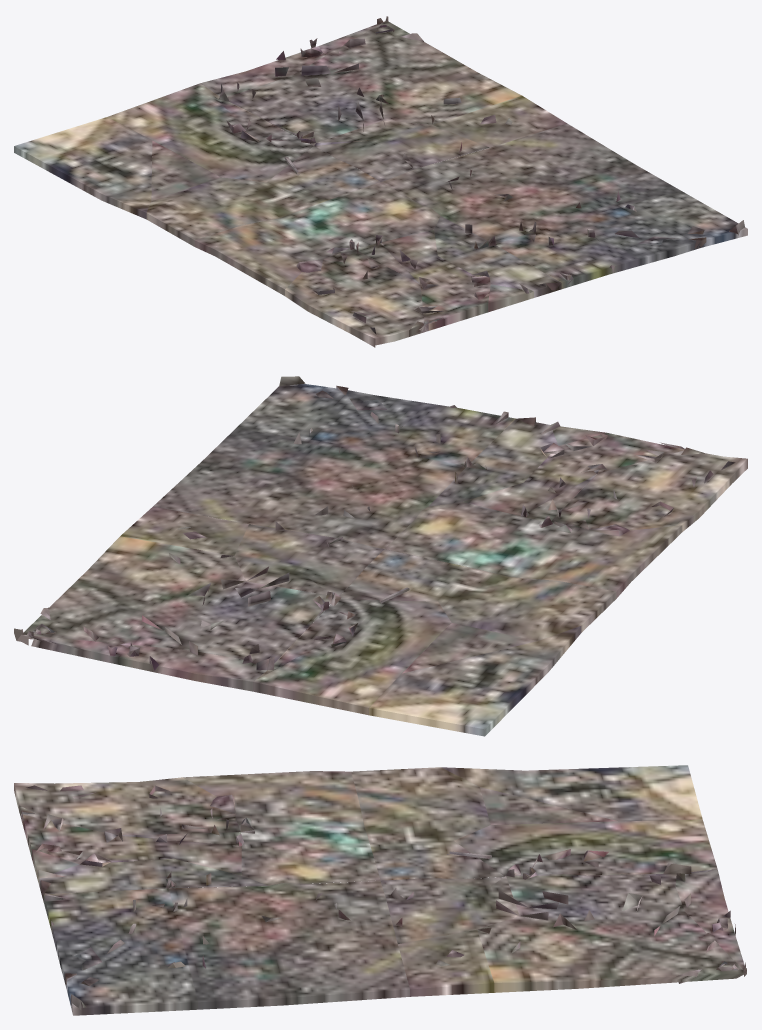
3 views of the same model, one above another, from view 1: azimuth 30°, elevation 25°; view 2: azimuth 150°, elevation 25°; view 3: azimuth 270°, elevation 25° (orthographic). The views are drawn at different scales.
Visible parts, largest first — view 1: Mesh_0; view 2: Mesh_0; view 3: Mesh_0.
Part boxes in pixels (x1,y1,x2,y2): Mesh_0: [14, 16, 747, 347]; Mesh_0: [14, 376, 747, 736]; Mesh_0: [14, 765, 746, 1015].
Bounding box in the file's own units: 2132 × 119 × 2641.
1 material, 1 textured.
